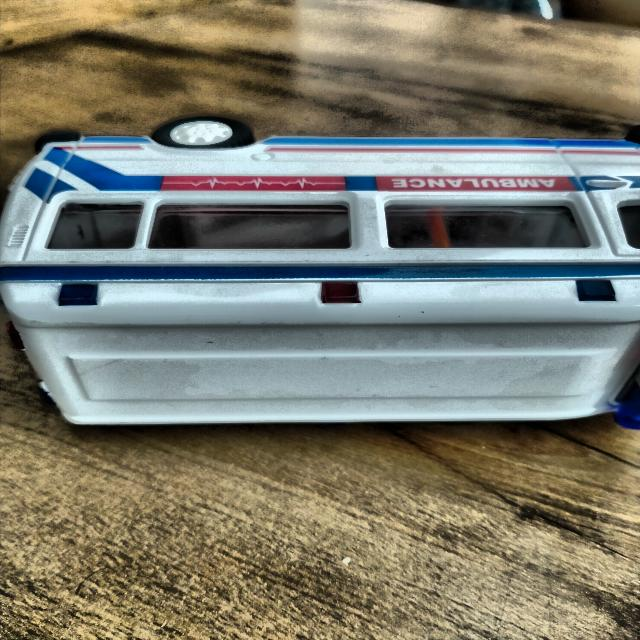Ambulance: (4, 119, 640, 442)
